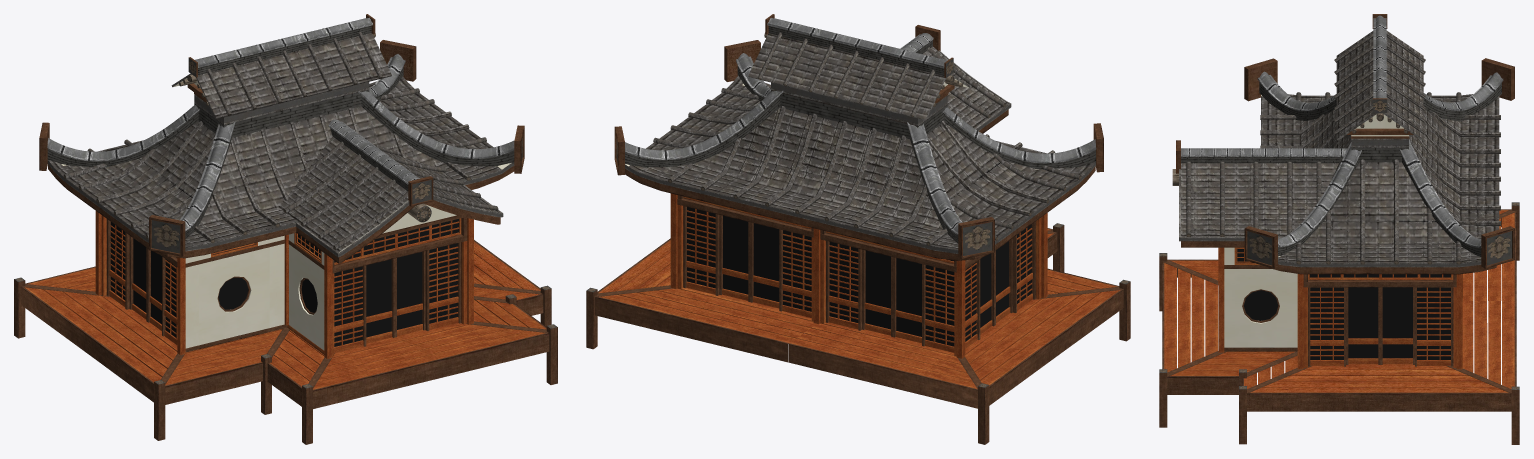
The model's file is house-daniel-stringer.glb.
3 views of the same model, side by side, from view 1: azimuth 30°, elevation 25°; view 2: azimuth 150°, elevation 25°; view 3: azimuth 270°, elevation 25° (orthographic). The views are drawn at different scales.
Parts seen in each view (by area): view 1: JapaneseHouse_House_0, Glass_Glass_0; view 2: JapaneseHouse_House_0, Glass_Glass_0; view 3: JapaneseHouse_House_0, Glass_Glass_0.
Part boxes in pixels (x1=…): JapaneseHouse_House_0: x1=14, y1=14, x2=557, y2=444; Glass_Glass_0: x1=111, y1=219, x2=458, y2=346; JapaneseHouse_House_0: x1=586, y1=14, x2=1130, y2=444; Glass_Glass_0: x1=687, y1=207, x2=1031, y2=346; JapaneseHouse_House_0: x1=1159, y1=14, x2=1519, y2=444; Glass_Glass_0: x1=1237, y1=249, x2=1450, y2=359.
Bounding box in the file's own units: 11.18 × 8.17 × 9.08.
2 materials, 1 textured.
